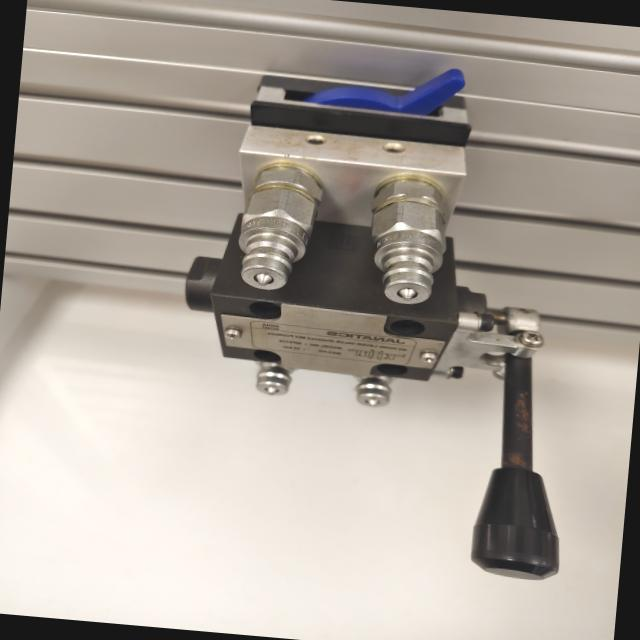4by3 hand lever valve: (154, 45, 602, 587)
